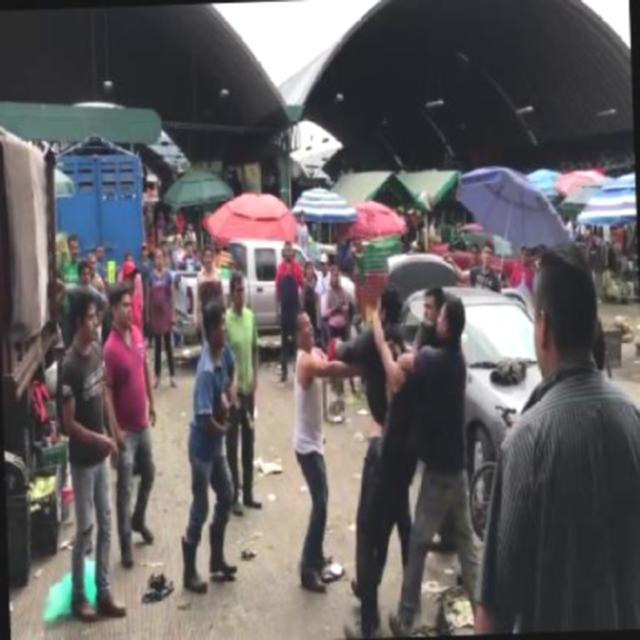fight: (287, 283, 415, 597)
